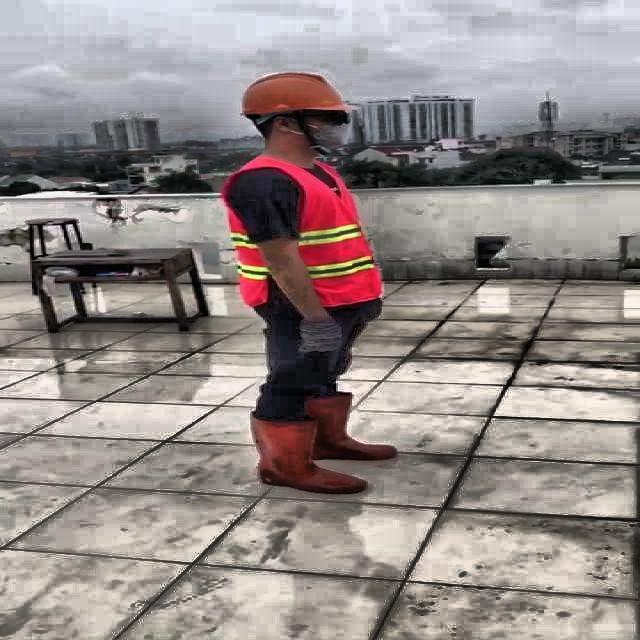safety_helmet: (238, 70, 350, 114)
safety_jacket: (216, 156, 382, 304)
